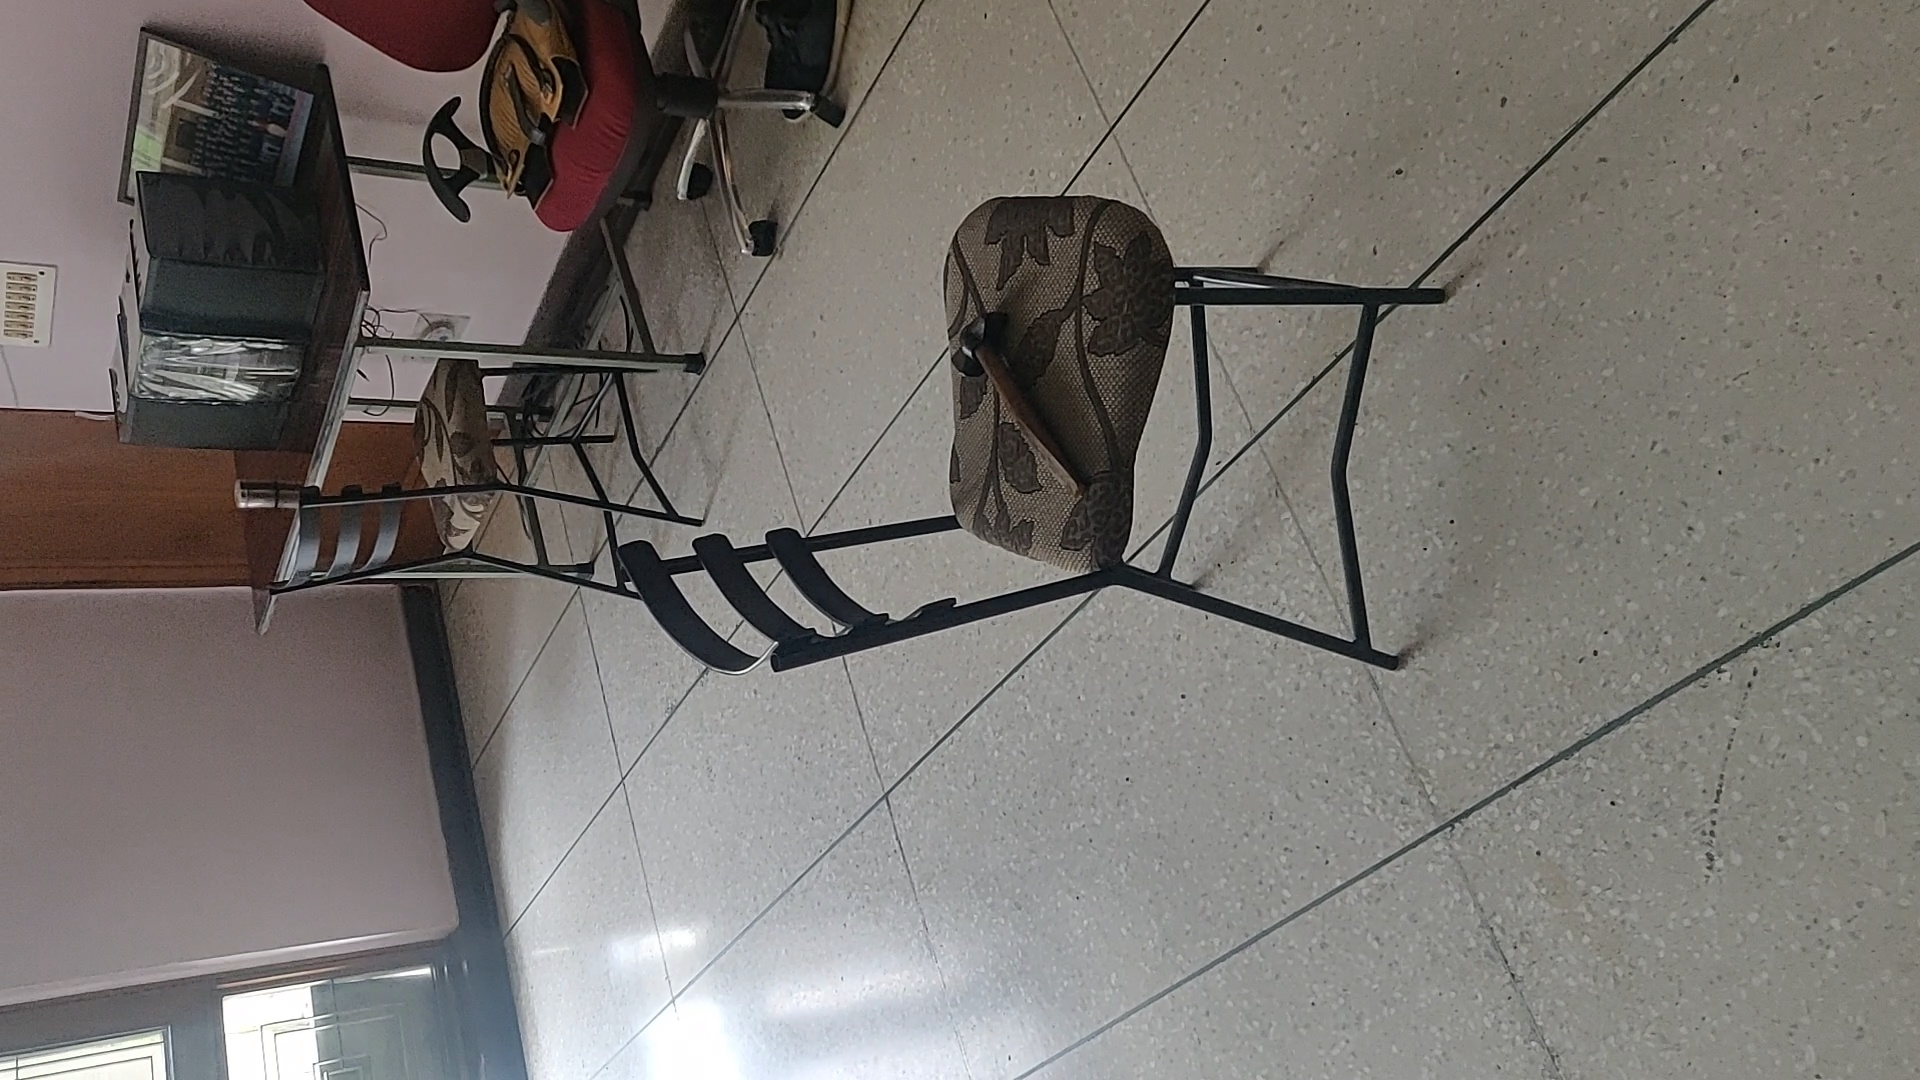hammer: (949, 307, 1081, 496)
